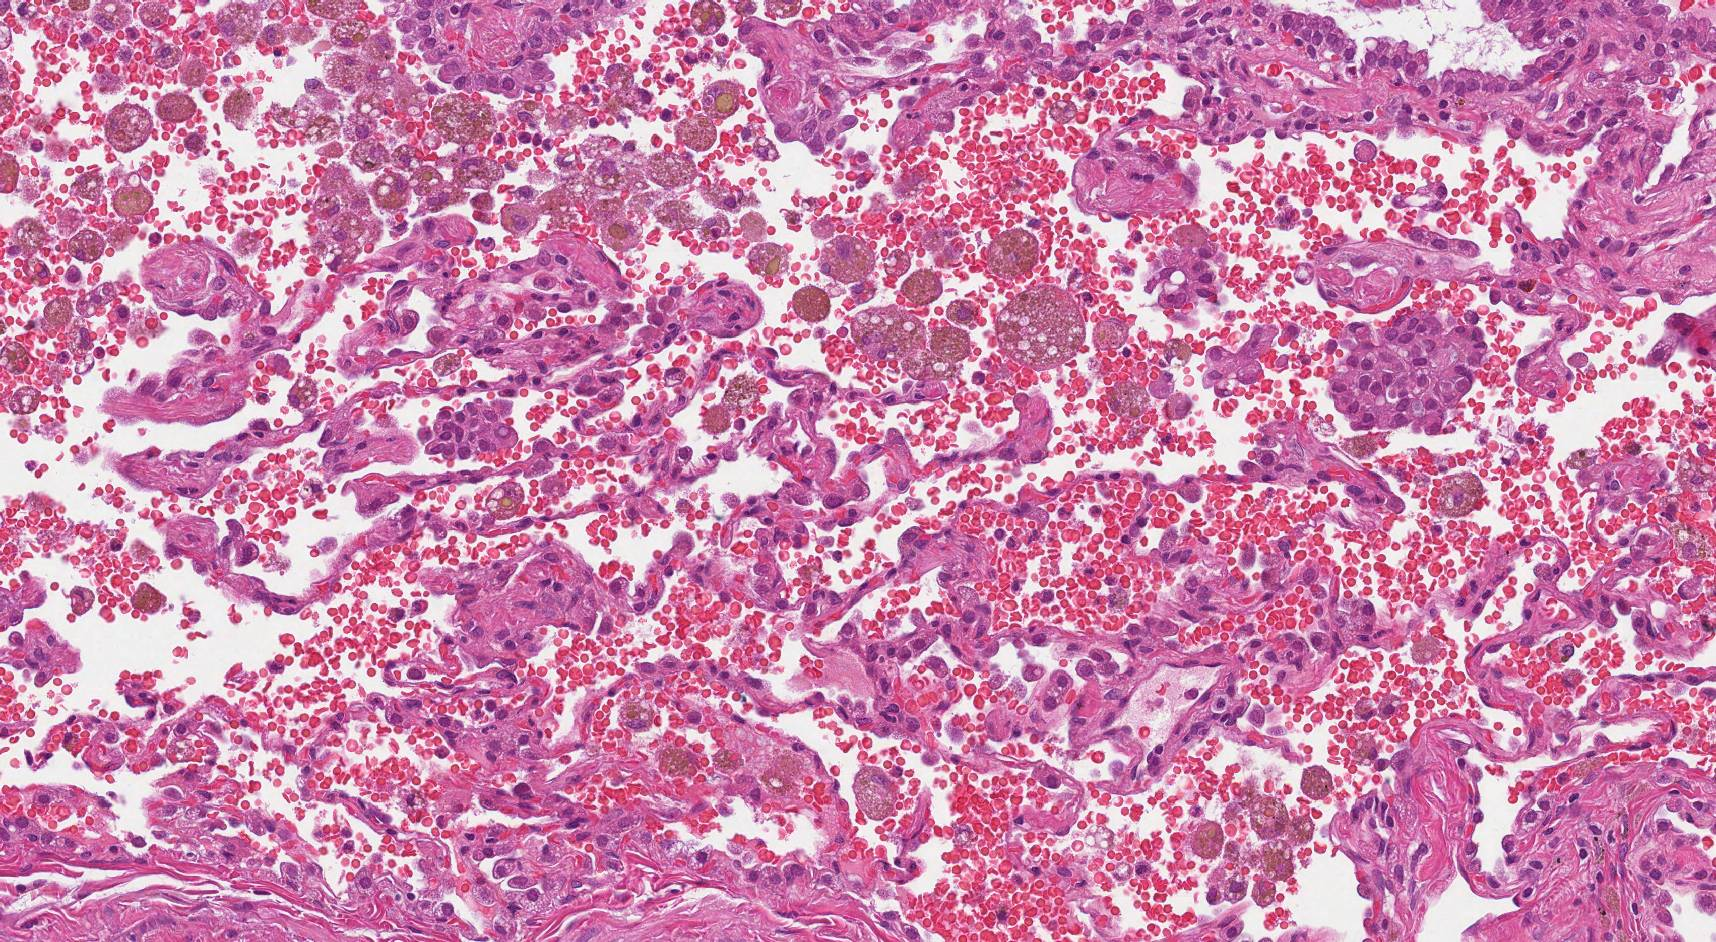stas: (1325, 307, 1489, 432), (414, 398, 520, 458), (1199, 323, 1278, 396), (1151, 245, 1221, 311)
